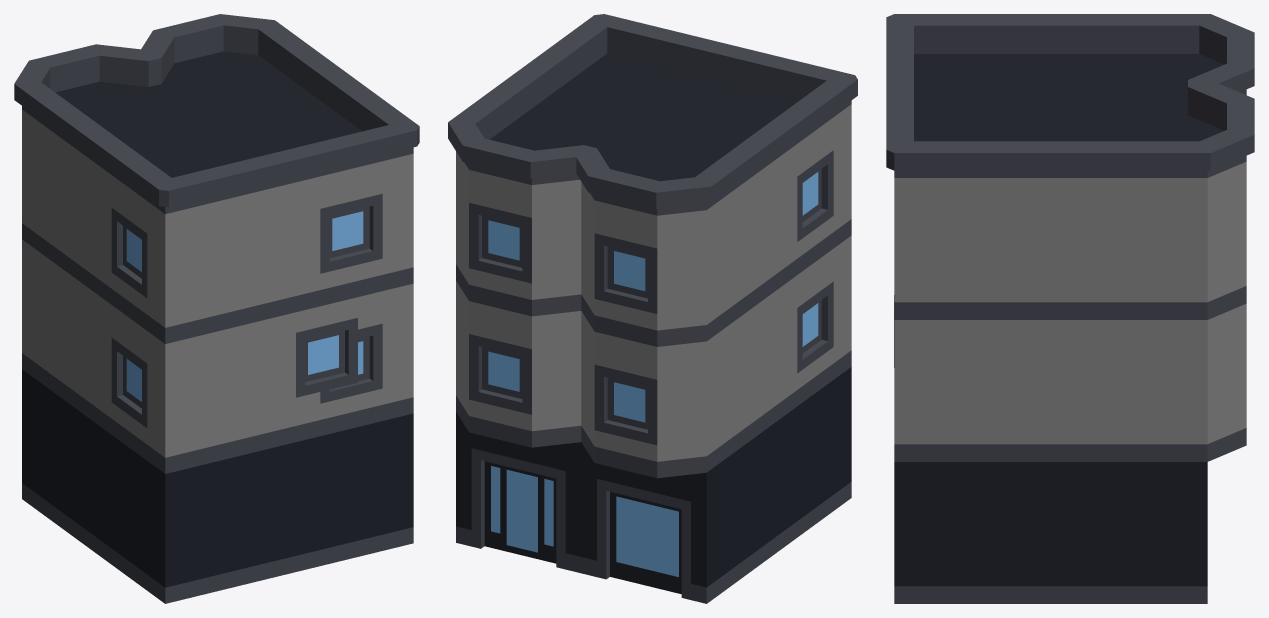
File: variant_13.obj
3 views of the same model, side by side, from view 1: azimuth 30°, elevation 25°; view 2: azimuth 150°, elevation 25°; view 3: azimuth 270°, elevation 25° (orthographic). The views are drawn at different scales.
Visible parts, largest first — view 1: Building_copy, Window_copy; view 2: Building_copy; view 3: Building_copy.
Boxes of the visible parts, x1,y1,x2,y2 form: Building_copy: (14,14,419,603); Window_copy: (296,318,357,397); Building_copy: (448,14,857,603); Building_copy: (886,14,1254,603).
Bounding box in the file's own units: 0.84 × 1.28 × 0.94.
